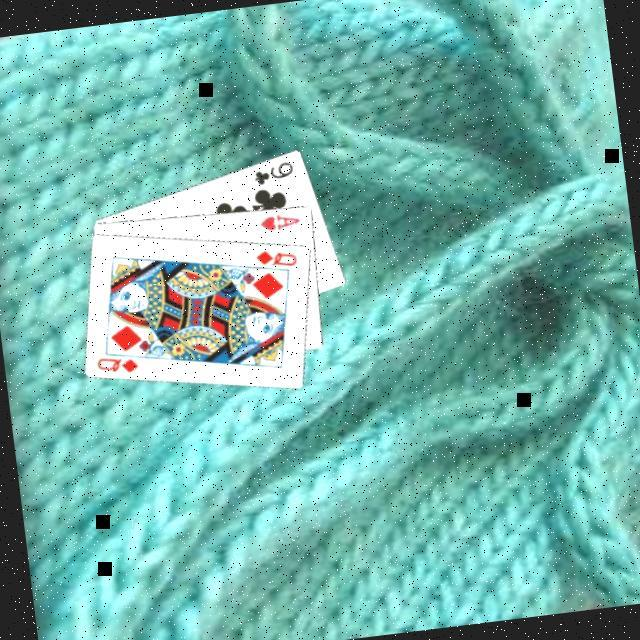9C: (249, 156, 300, 188)
AH: (256, 207, 304, 234)
QD: (93, 348, 144, 378), (253, 242, 302, 272)
